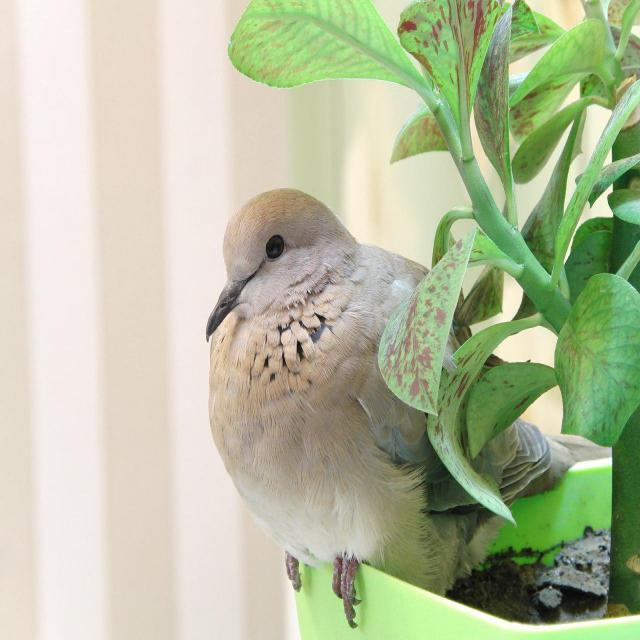bird: (195, 181, 606, 628)
